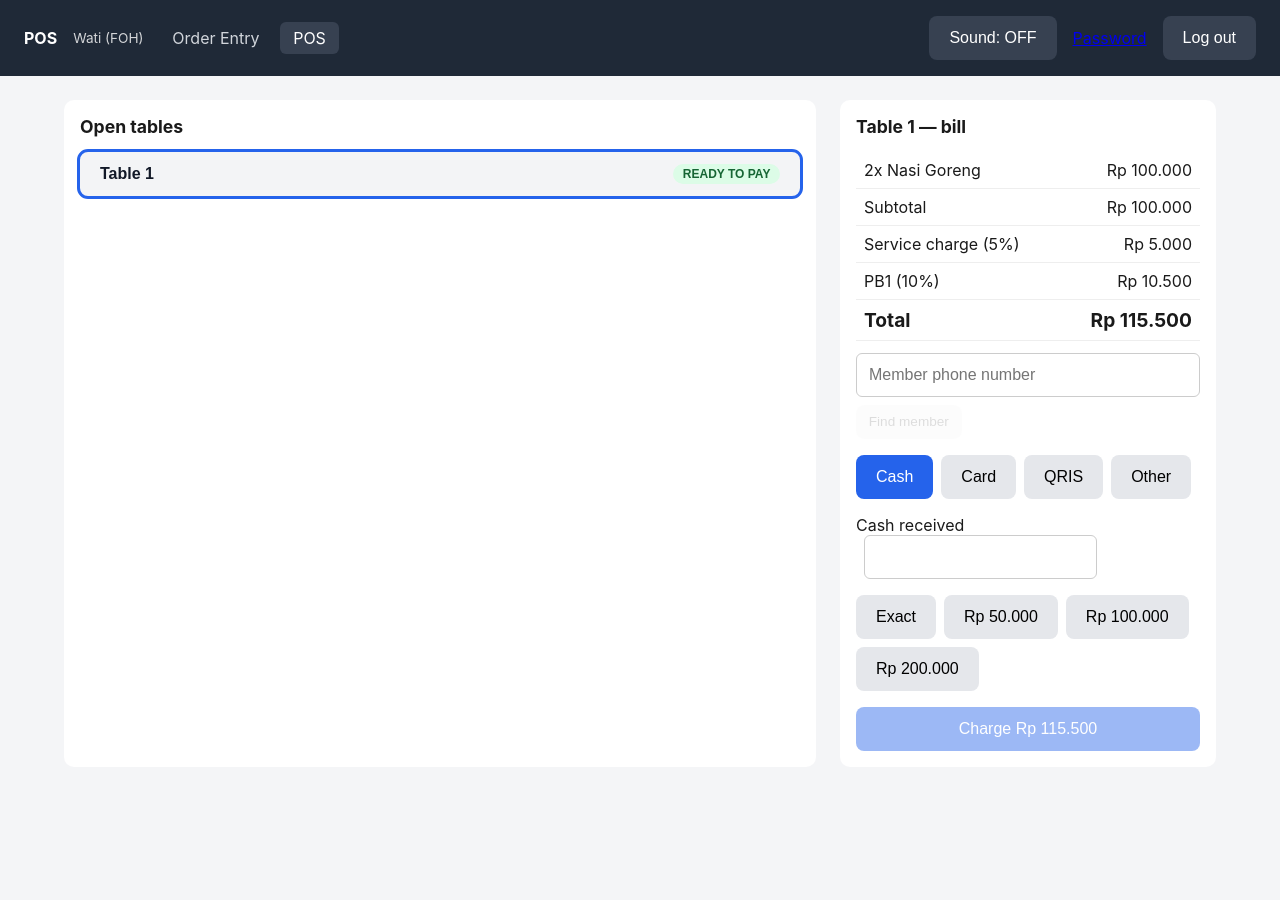
Scenario: POS: phone not found › a waiter is told who can add members and gets no add form
The image size is (1280, 900).
Expected: the text "Service charge (5%)" is shown, [856,225,1060,262]
Type "0877 1111 222" into the field labelled "Member phone number". click: point(1028, 375)
box: [856,353,1200,397]
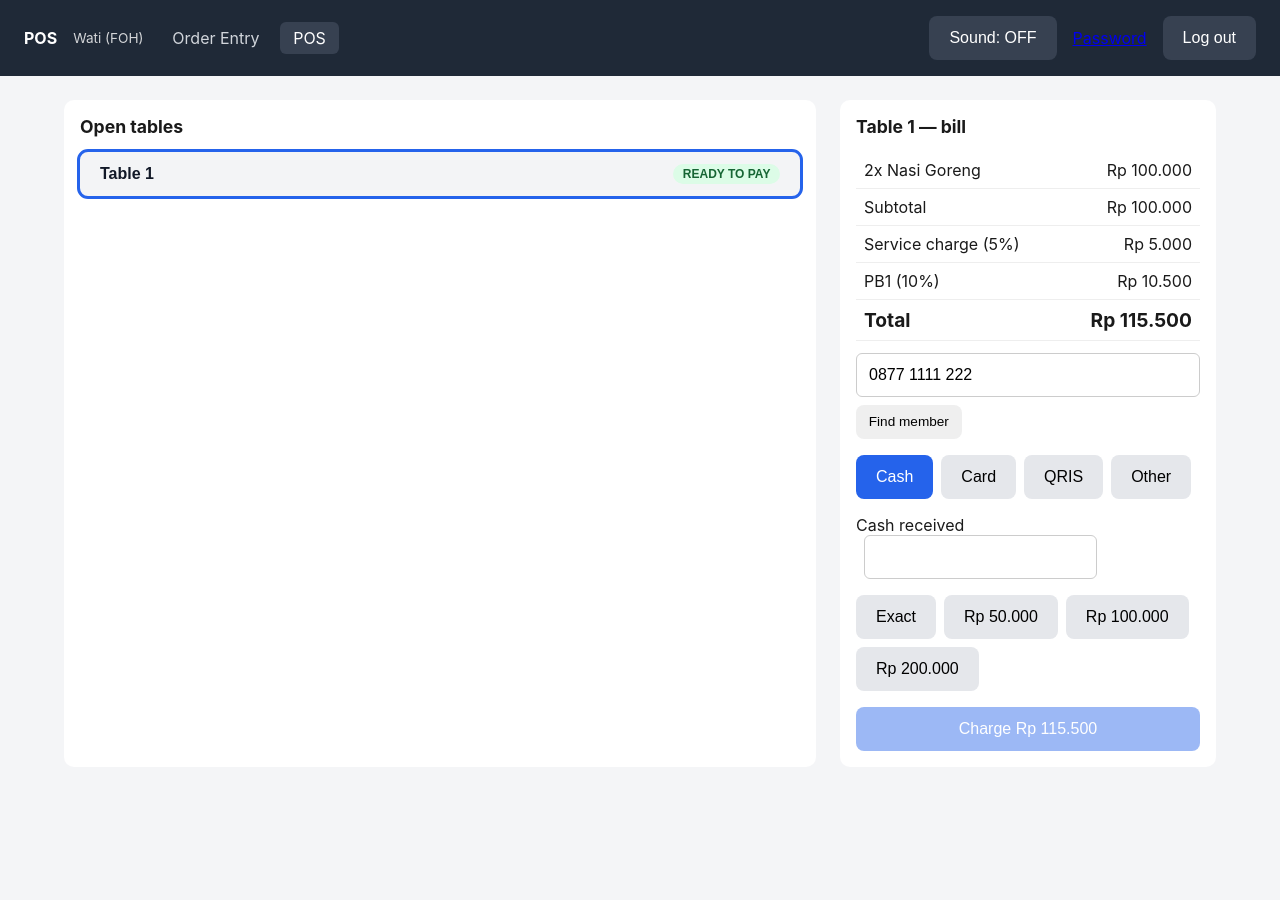
Click the button "Find member". click: point(909, 422)
box: [856,405,962,439]
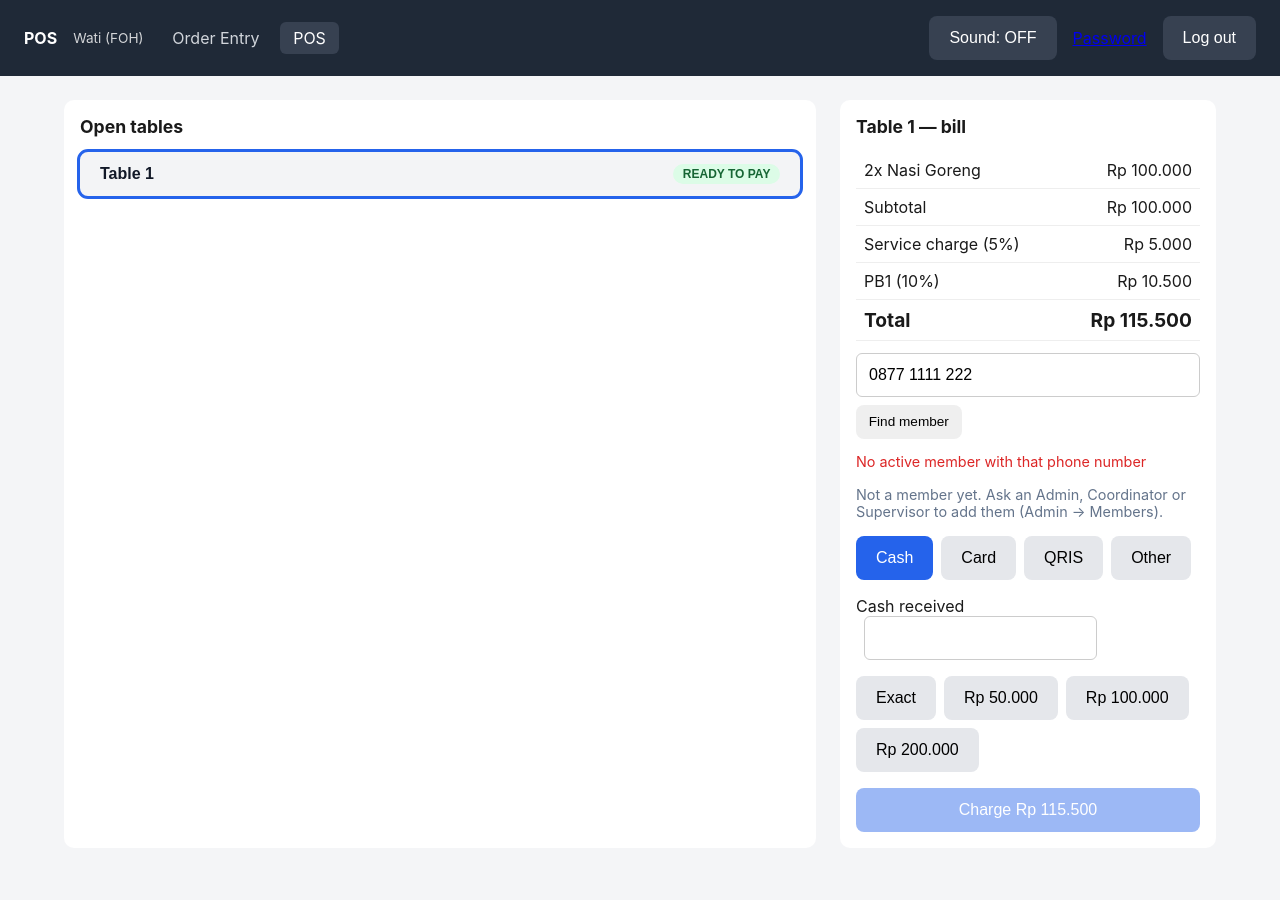
Expected: the text "Ask an Admin, Coordinator or Supervisor" is shown, [856,486,1186,520]
